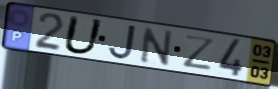2: (34, 12, 66, 53)
4: (216, 37, 245, 79)
J: (106, 23, 139, 61)
N: (139, 25, 175, 67)
U: (60, 13, 106, 56)
Z: (183, 33, 218, 72)
